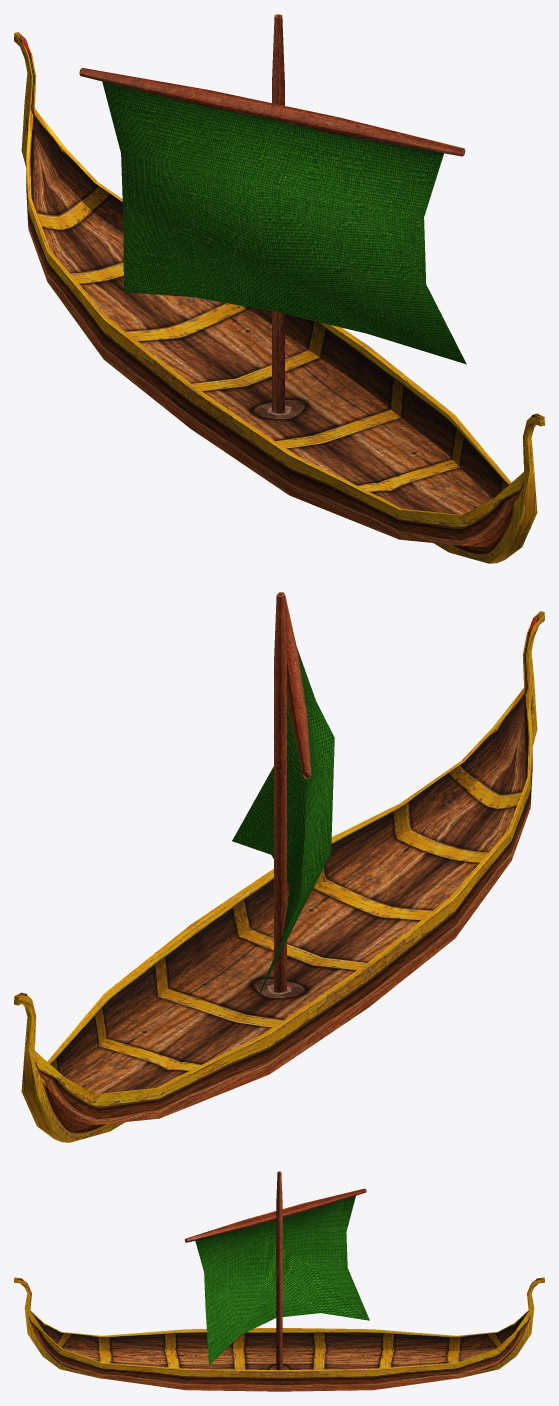
File: mm9_deco_toyboatgreen.glb
3 renders of one model, top to bottom at view 1: azimuth 30°, elevation 25°; view 2: azimuth 150°, elevation 25°; view 3: azimuth 270°, elevation 25°, orthographic. The views are drawn at different scales.
Visible parts, largest first — view 1: Toyboatgreen; view 2: Toyboatgreen; view 3: Toyboatgreen.
Part boxes in pixels (bbox=[...]): Toyboatgreen: bbox=[14, 14, 544, 563]; Toyboatgreen: bbox=[14, 592, 544, 1142]; Toyboatgreen: bbox=[14, 1171, 544, 1391].
Bounding box in the file's own units: 0.3306 × 0.5633 × 1.29.
Materials: 1 (1 with a texture image).
